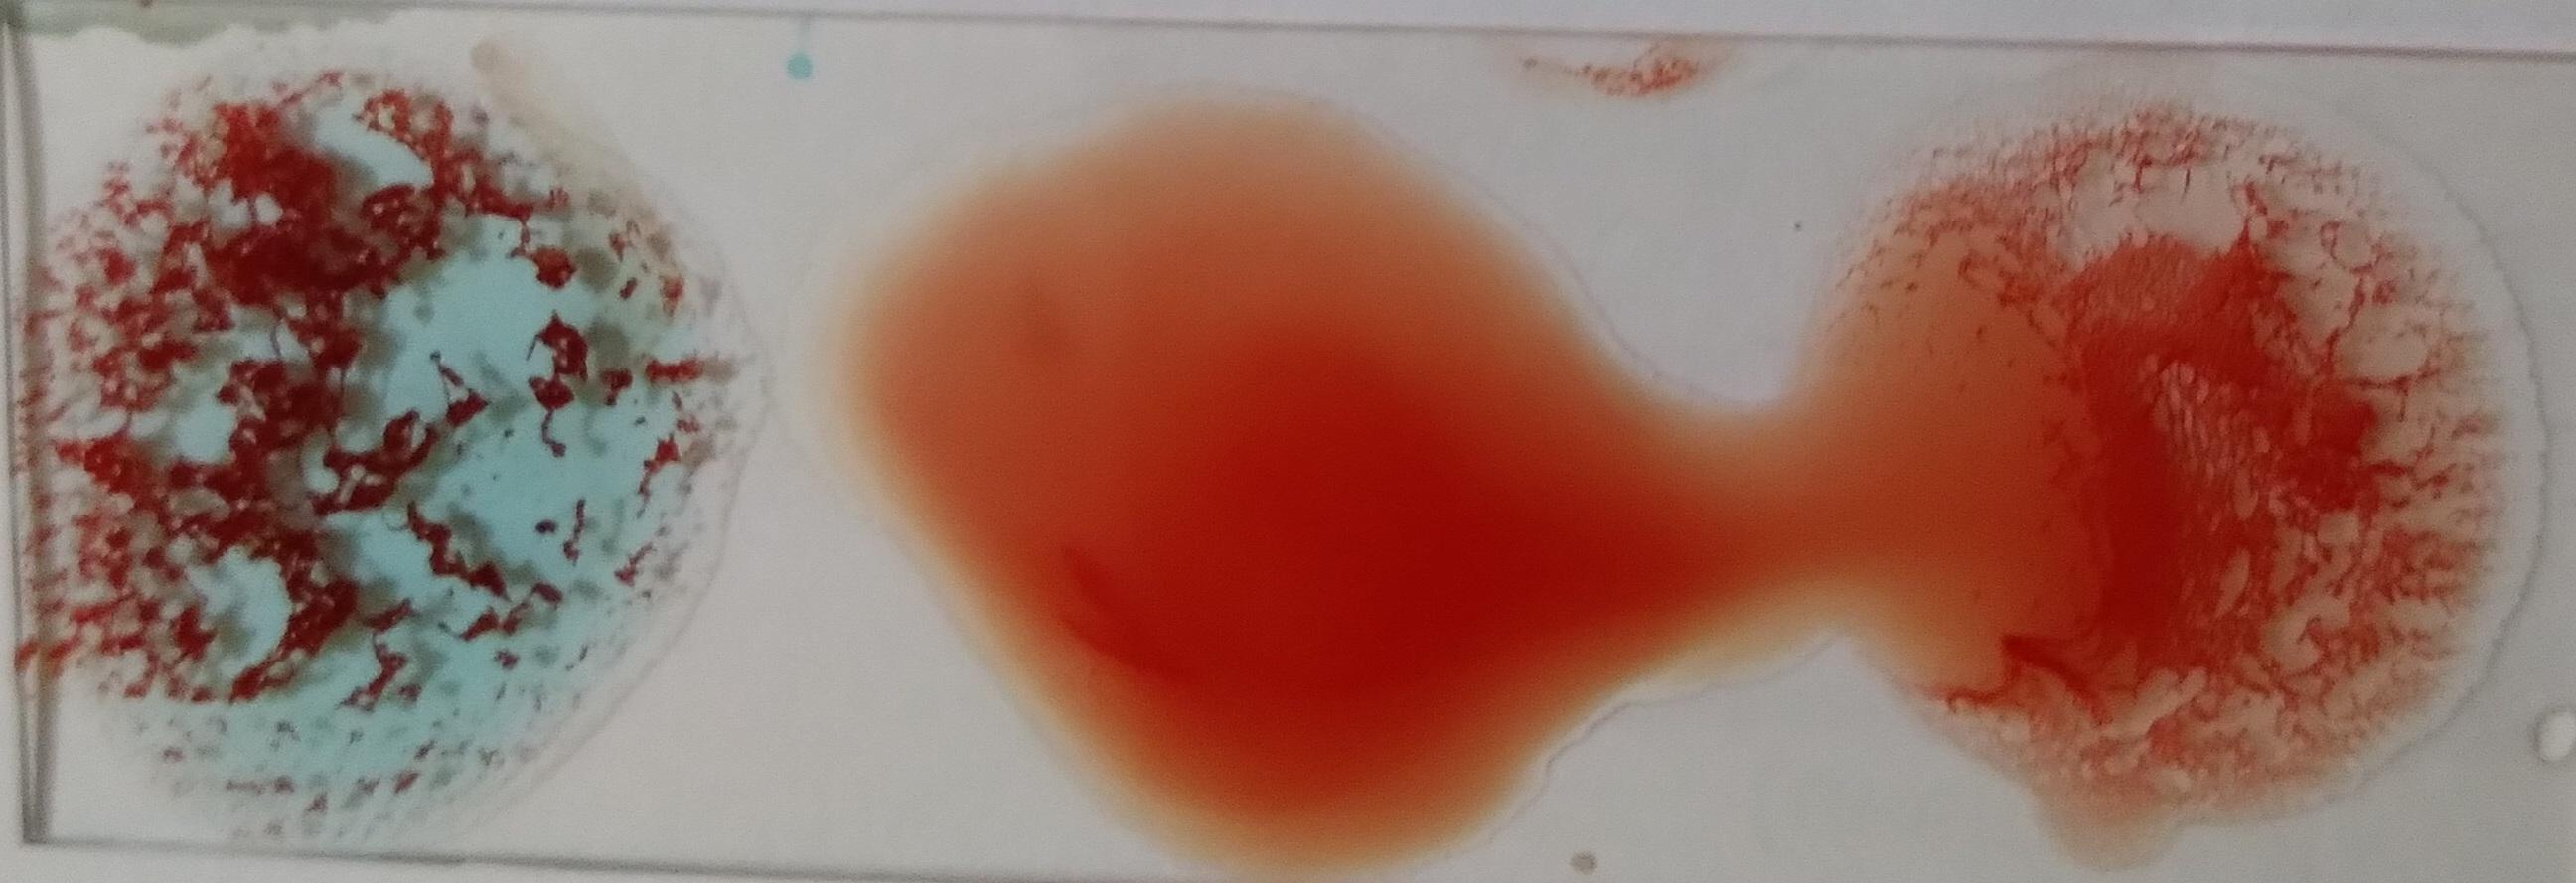A: (51, 61, 675, 829)
D: (2037, 115, 2464, 809)
